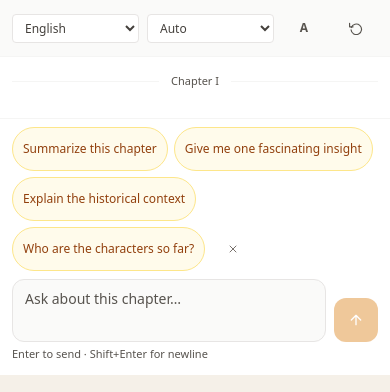
Test: InsightChat — dismissible suggestions › hides the chips via the close button and shows them again via the link
Step 1. Click the button named "Hide suggestions" → (233, 248), box [211, 226, 255, 270]
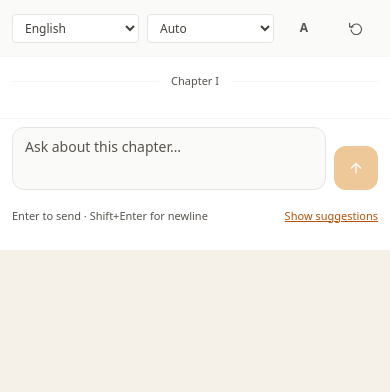
Step 2. Click the button "Show suggestions" → (331, 216), box [285, 194, 378, 238]
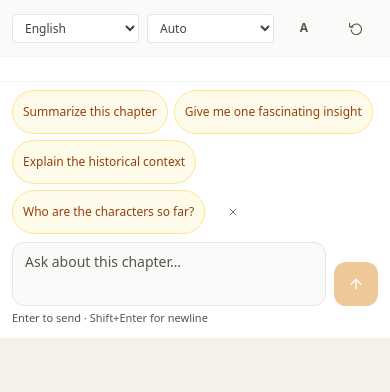
Expected: the element named "Suggested questions" is shown, [12, 90, 378, 234]
